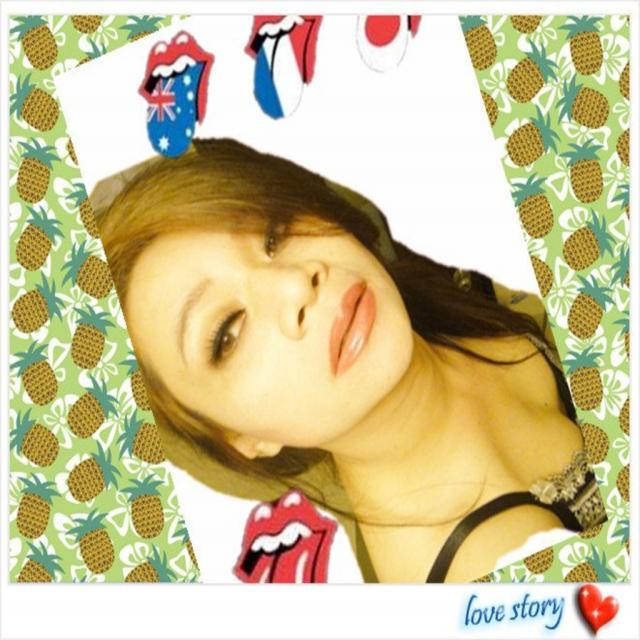Pineapple: (563, 270, 621, 342), (510, 34, 560, 104), (12, 204, 62, 270), (60, 237, 113, 299), (19, 472, 65, 543), (558, 66, 614, 124), (11, 69, 63, 131), (8, 344, 56, 409), (70, 301, 114, 371), (19, 137, 65, 203), (562, 210, 618, 264), (506, 106, 557, 164), (7, 12, 57, 71), (120, 471, 164, 537), (65, 509, 109, 574), (558, 14, 606, 73), (559, 134, 603, 198), (563, 345, 605, 410), (116, 407, 166, 461), (9, 408, 61, 459), (456, 8, 496, 72), (513, 173, 547, 240), (122, 347, 147, 414), (21, 545, 67, 581), (566, 545, 610, 581), (118, 6, 160, 38), (609, 307, 629, 361), (69, 12, 97, 32)
